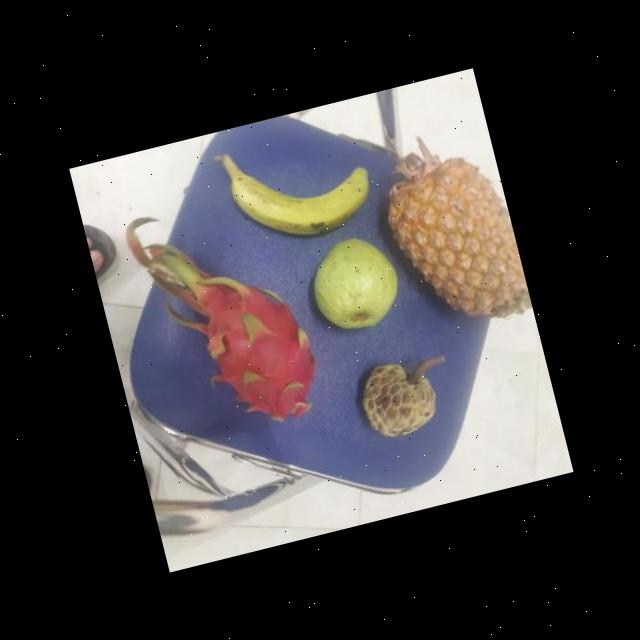Sakya fruit: (350, 353, 446, 446)
banana: (222, 136, 380, 258)
guava: (300, 228, 406, 342)
pitaya: (187, 259, 328, 441)
